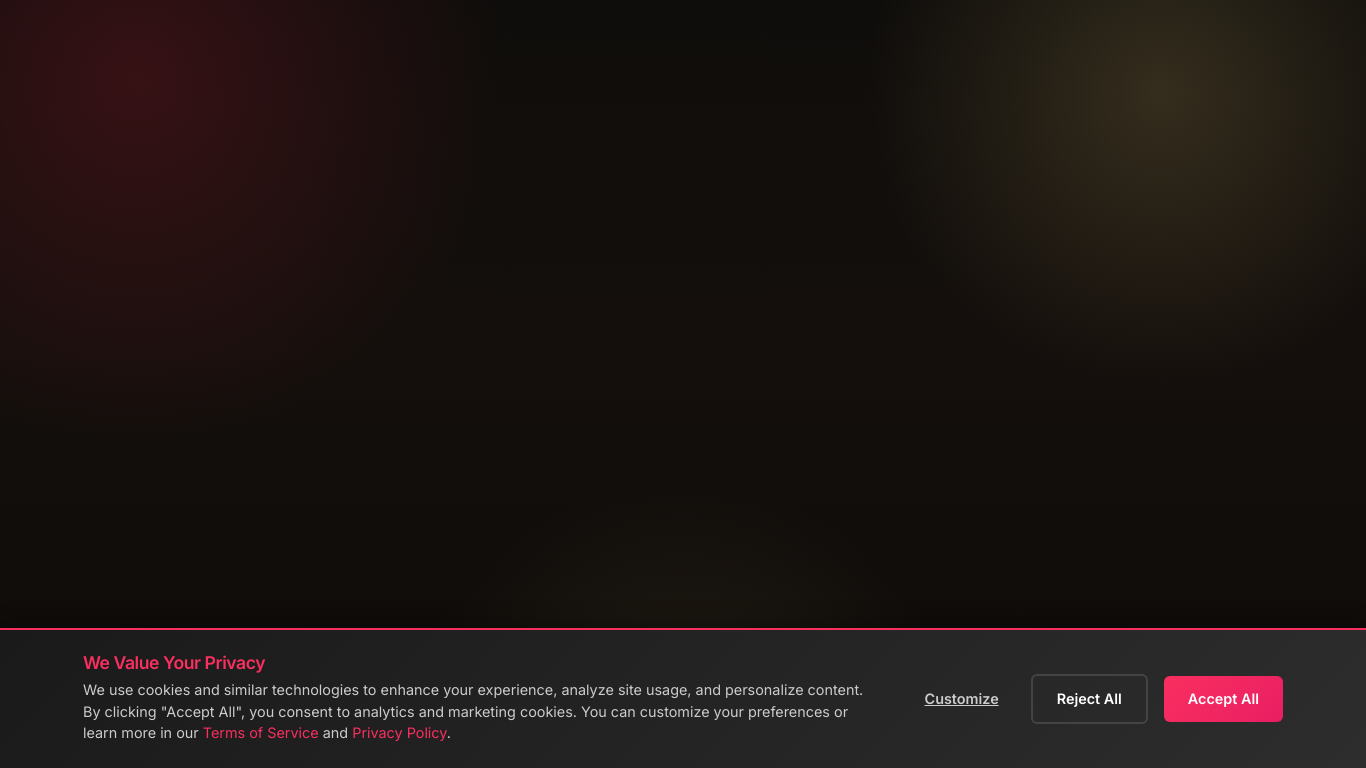
Test case: ConsentFlow Integration Tests › Granular Consent Management › loads saved preferences
Open customization modal
Click the button "Customize" at (962, 699), box x1=908 y1=677 x2=1015 y2=721
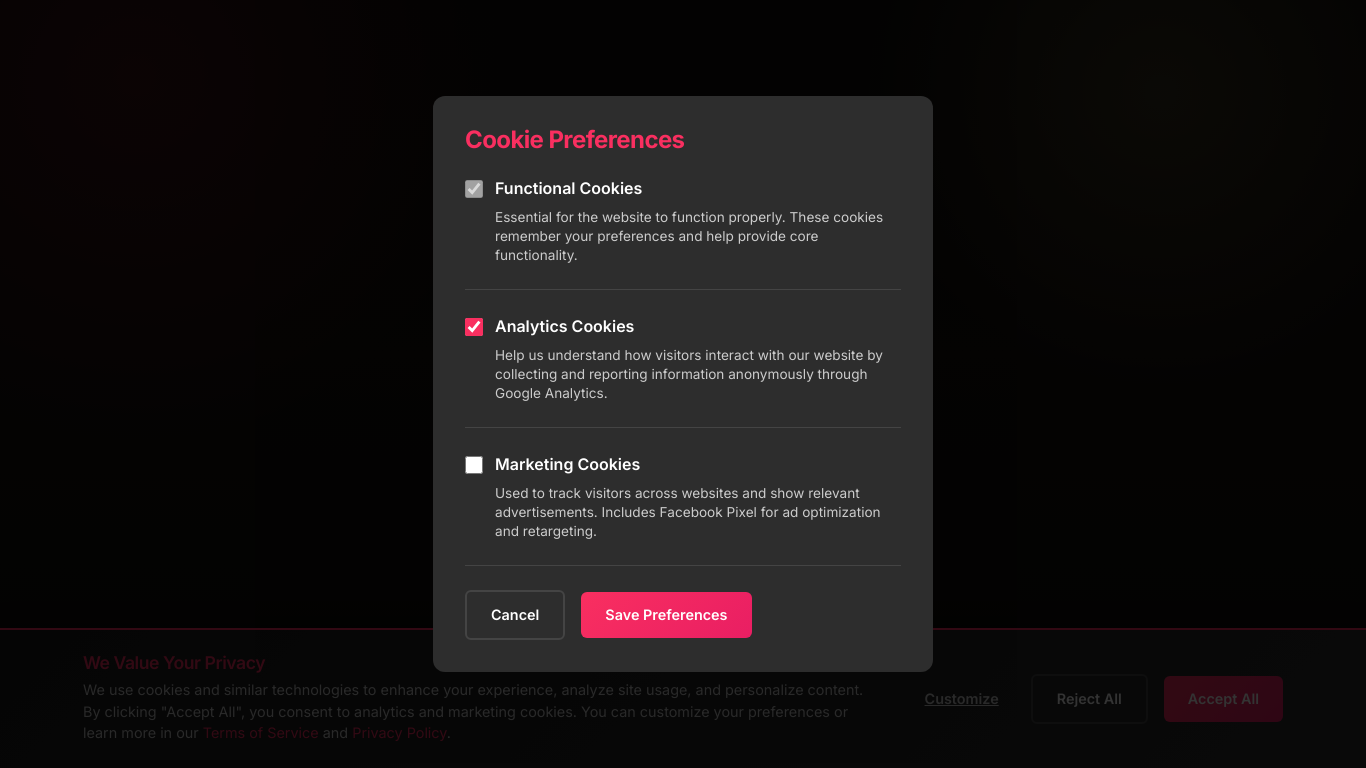
Check: the checkbox labelled "Marketing Cookies" is not checked, box x1=465 y1=456 x2=483 y2=474
Check: the checkbox labelled "Analytics Cookies" is checked, box x1=465 y1=318 x2=483 y2=336
